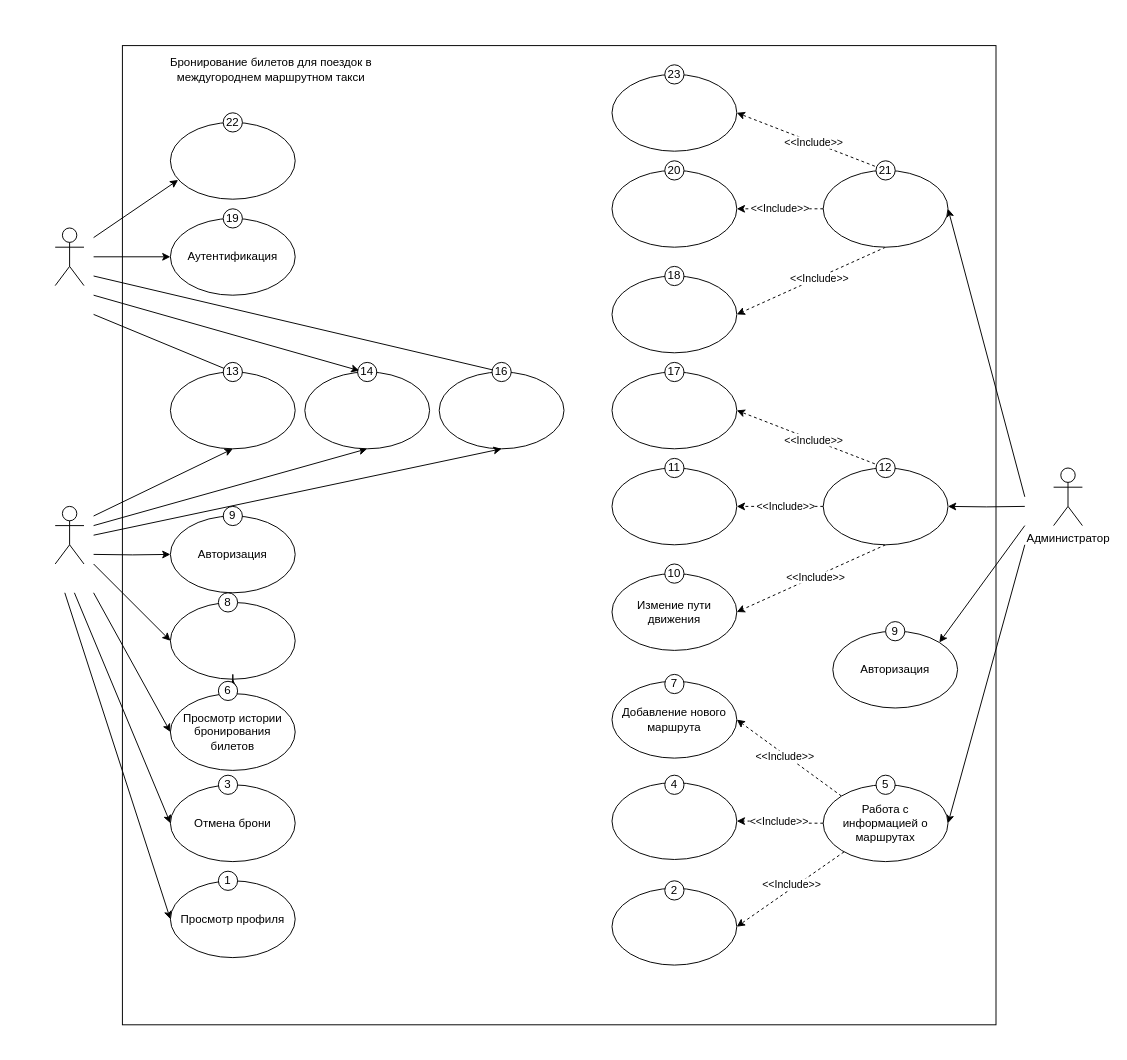
Image size: 1127x1060. Some labels were removed from this diagram. The box of each missing label's shape, as (x1, y1, x2, y2) in pixels:
Блокировка пользователя: (611, 169, 737, 247)
Бронирование билетов на выбранные билеты: (169, 601, 295, 679)
Гость: (54, 227, 84, 286)
Добавление нового пути движения: (611, 467, 737, 545)
Измения маршрута: (611, 782, 737, 859)
Пассажир: (54, 505, 84, 564)
Поиск билетов: (304, 371, 430, 449)
Просмотр инфомарции о пользователе: (611, 73, 737, 151)
Просмотр расписания движения маршруток: (438, 371, 564, 449)
Работа с данными пользователей: (822, 169, 948, 247)
Работа с расписанием движения маршруток: (822, 467, 948, 545)
Разблокировка пользователя: (611, 275, 737, 353)
Регистрация: (169, 121, 295, 199)
Сортировка билетов: (169, 371, 295, 449)
Удаление маршрута: (611, 887, 737, 965)
Удаление пути движения: (611, 371, 737, 449)
